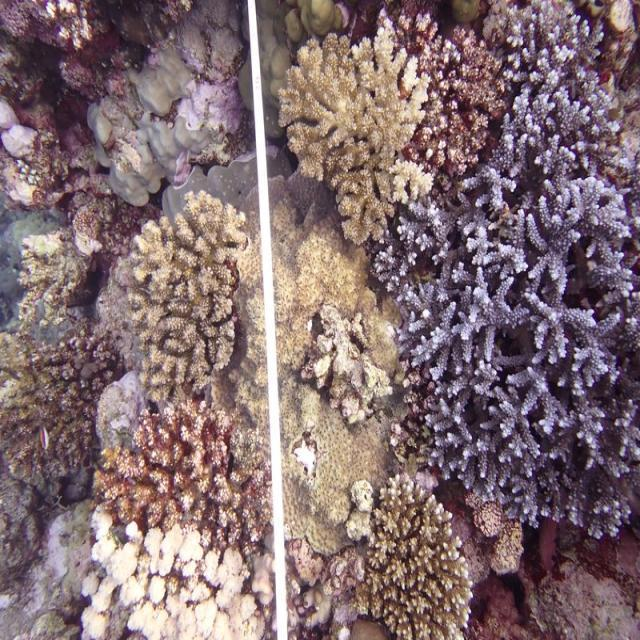Bleached Coral: (85, 496, 268, 640)
Healthy Coral: (415, 85, 640, 542), (284, 11, 480, 200), (124, 206, 253, 372), (370, 466, 475, 640), (114, 372, 243, 508), (18, 348, 112, 492)
